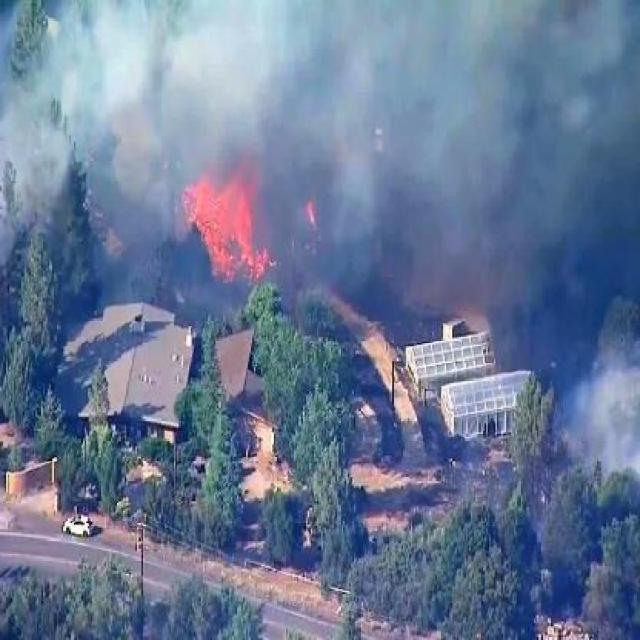Fire: (194, 192, 311, 292)
Smoke: (55, 9, 640, 300)
